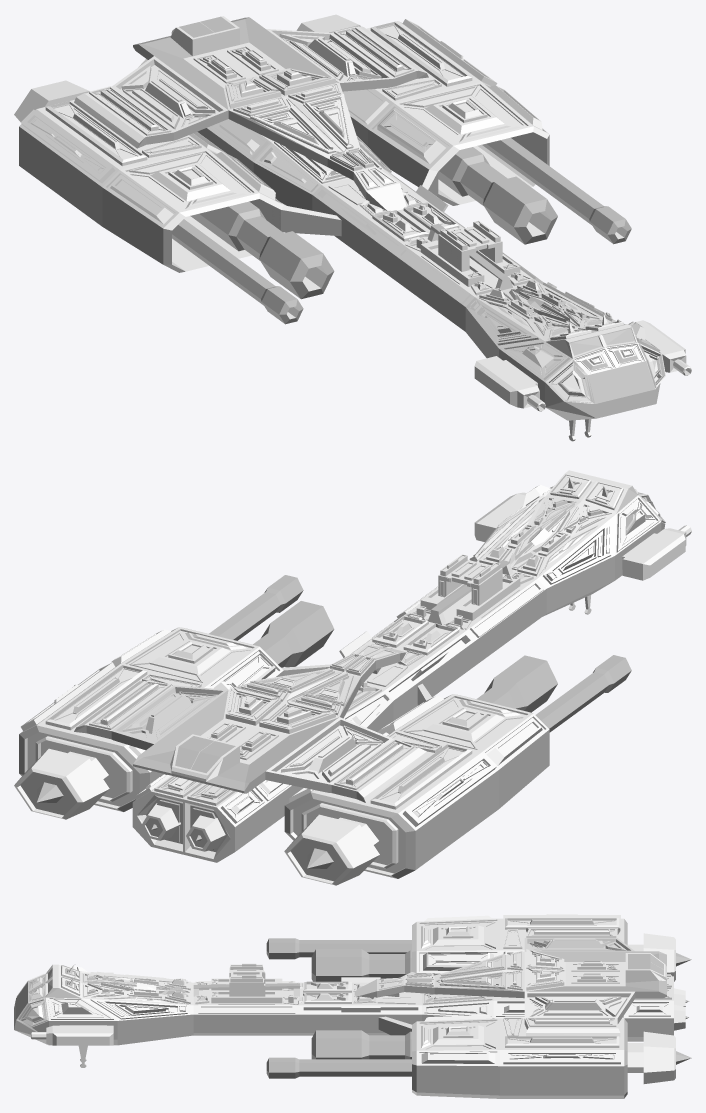
File: player.obj
3 renders of one model, top to bottom at view 1: azimuth 30°, elevation 25°; view 2: azimuth 150°, elevation 25°; view 3: azimuth 270°, elevation 25°, orthographic. The views are drawn at different scales.
Parts seen in each view (by area): view 1: Cylinder; view 2: Cylinder; view 3: Cylinder.
Boxes of the visible parts, x1=… form: Cylinder: x1=14, y1=14, x2=691, y2=441; Cylinder: x1=14, y1=470, x2=691, y2=885; Cylinder: x1=14, y1=914, x2=691, y2=1098.
Size of the model in its own units: 7.53 by 2.5 by 14.9.
